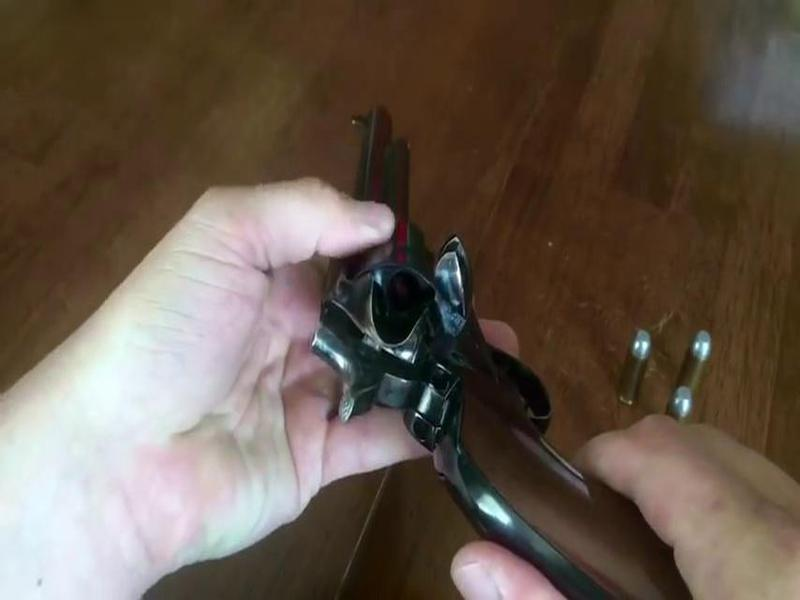Revolver: (328, 84, 586, 545)
